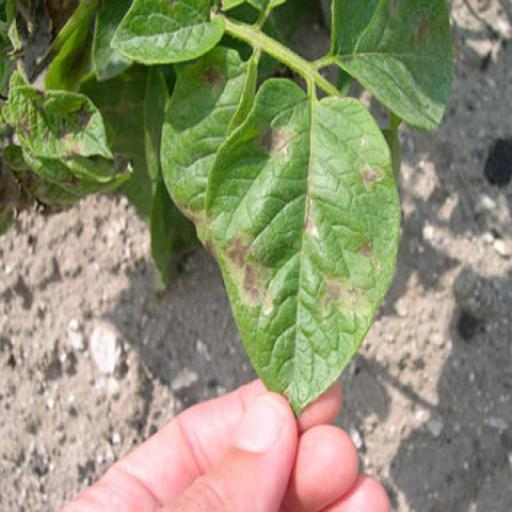disease_tomato: (202, 72, 402, 414)
